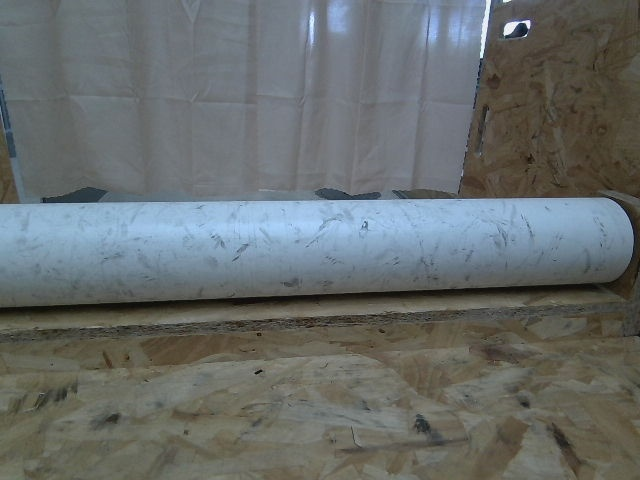curtain: (0, 0, 467, 206)
